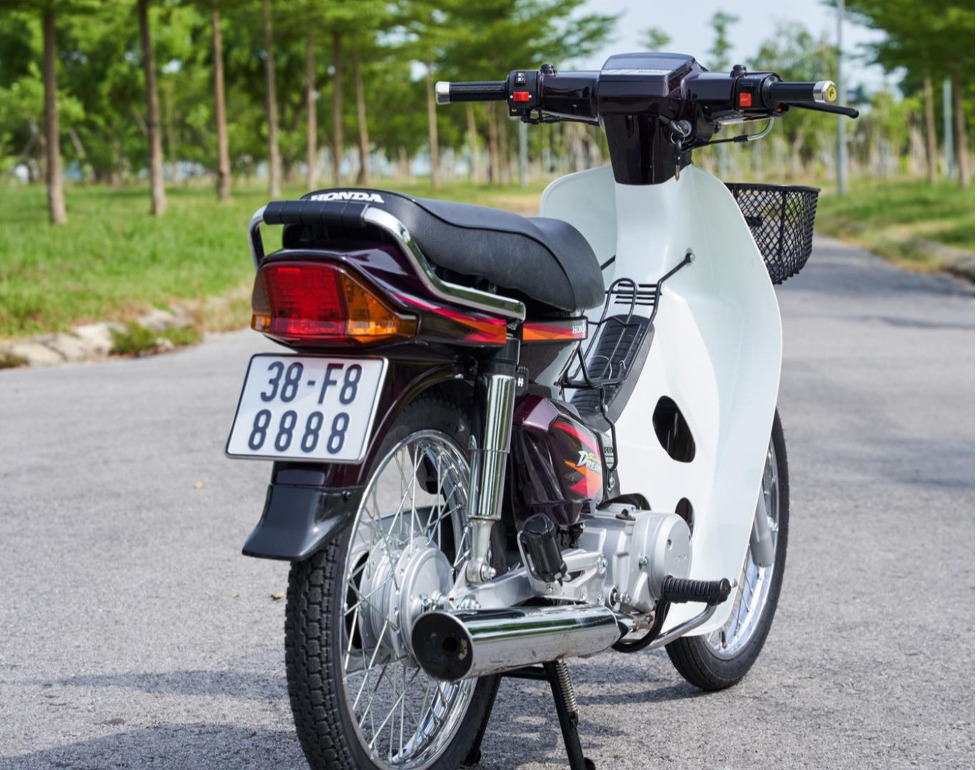number_plate: (241, 345, 371, 464)
